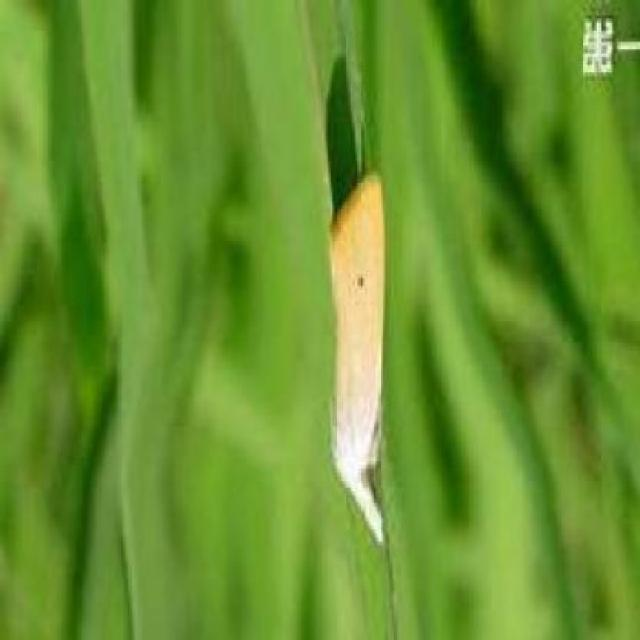stem-borer: (328, 166, 388, 548)
